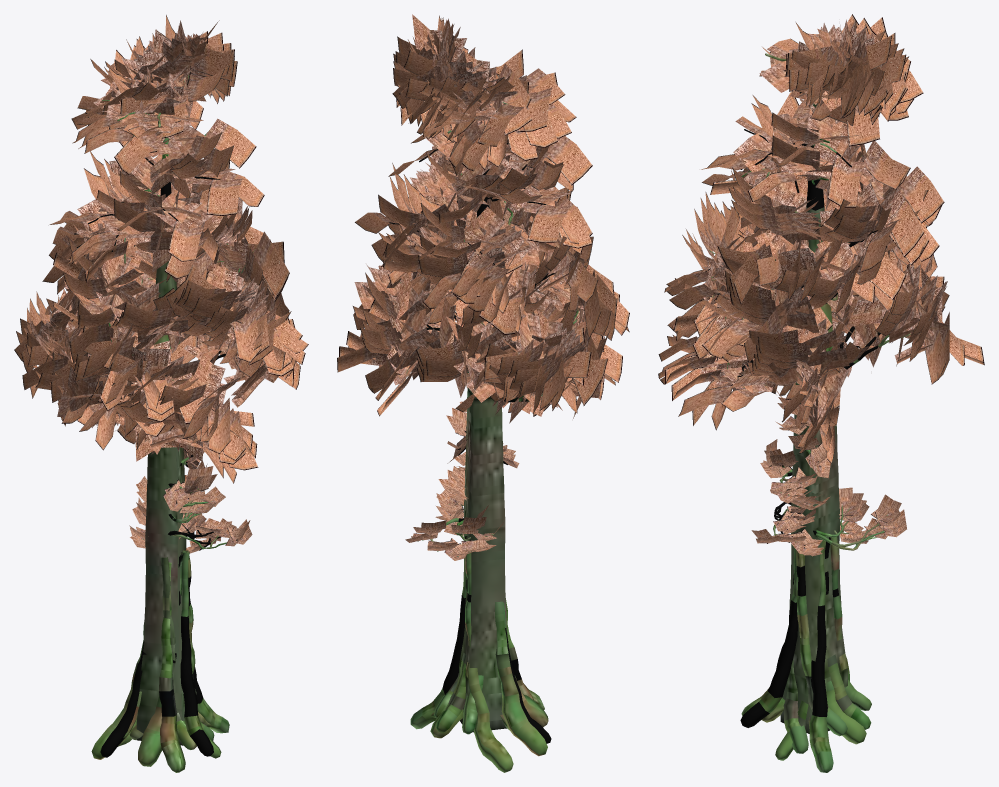
The model's file is Bottom_T.obj.
3 renders of one model, left to right at view 1: azimuth 30°, elevation 25°; view 2: azimuth 150°, elevation 25°; view 3: azimuth 270°, elevation 25°, orthographic. The views are drawn at different scales.
Visible parts, largest first — view 1: Bottom_T; view 2: Bottom_T; view 3: Bottom_T.
Boxes of the visible parts, x1,y1,x2,y2 form: Bottom_T: [14, 15, 308, 772]; Bottom_T: [337, 14, 629, 772]; Bottom_T: [658, 14, 984, 772].
Size of the model in its own units: 18.31 by 47.09 by 18.74.
1 material, 1 textured.
